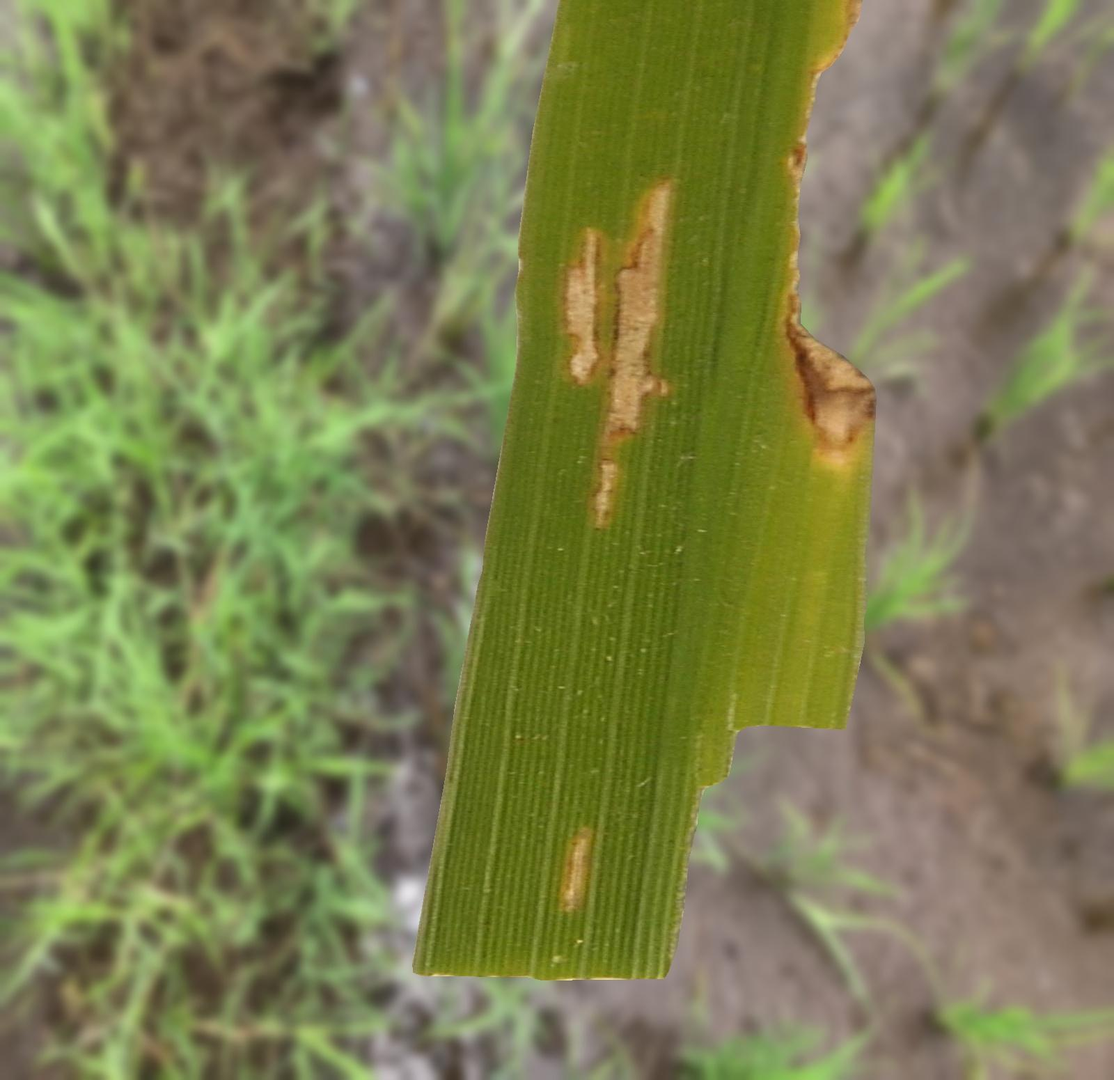BLS: (562, 180, 672, 528), (563, 180, 672, 528), (564, 228, 600, 384), (560, 827, 593, 912)
LEAF: (412, 0, 876, 980)
